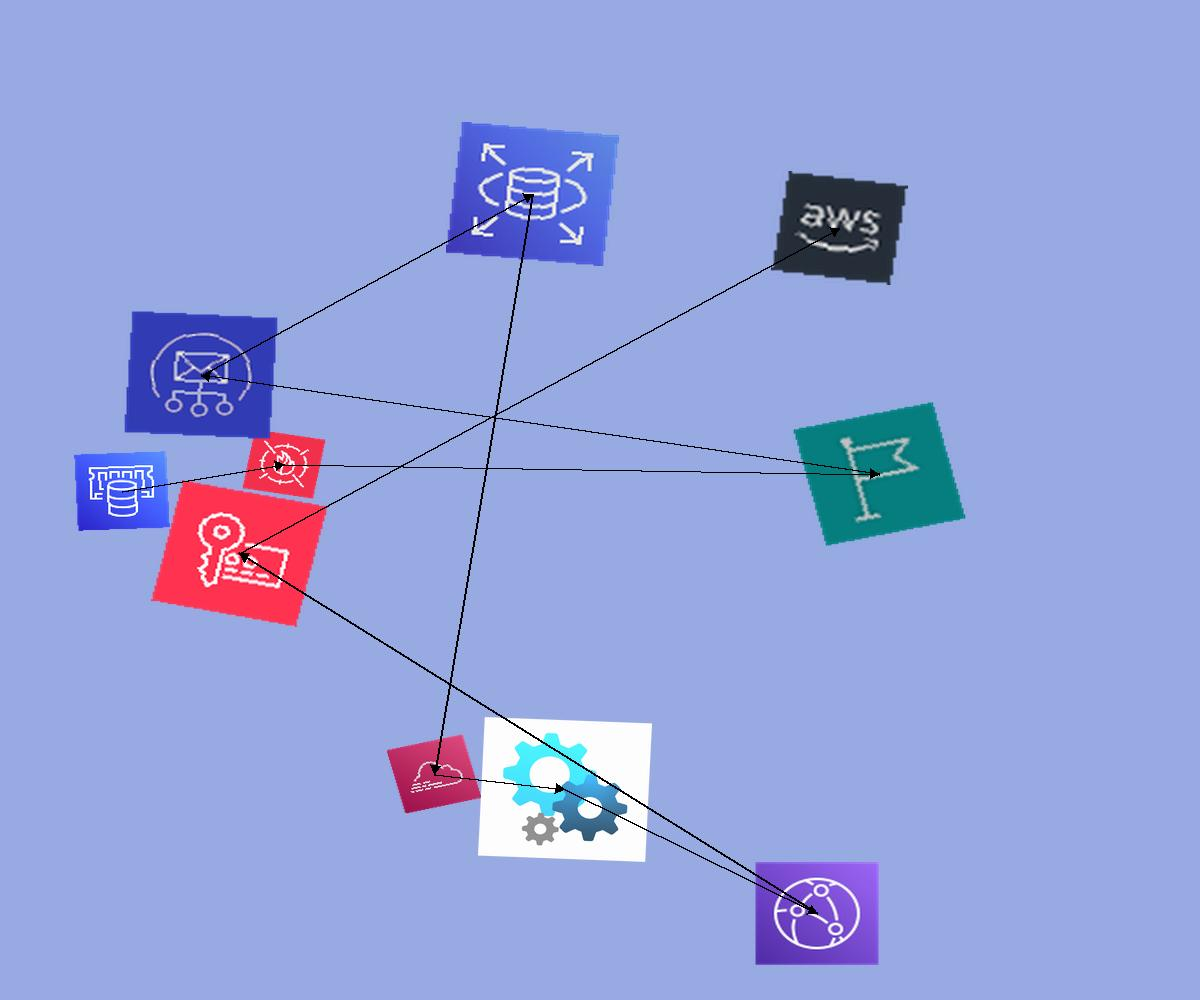AWS-Cloud-logo: (771, 171, 908, 285)
AWS-CloudFront: (754, 861, 880, 966)
AWS-CloudTrail: (386, 734, 482, 814)
AWS-ElastiCache: (74, 451, 170, 531)
AWS-Key-Management-Service: (151, 480, 328, 627)
AWS-RDS: (446, 122, 619, 266)
AWS-Region: (792, 401, 967, 547)
AWS-Simple-Email-Service: (123, 310, 279, 440)
AWS-WAF: (242, 429, 326, 499)
Azure_api: (478, 717, 652, 862)
